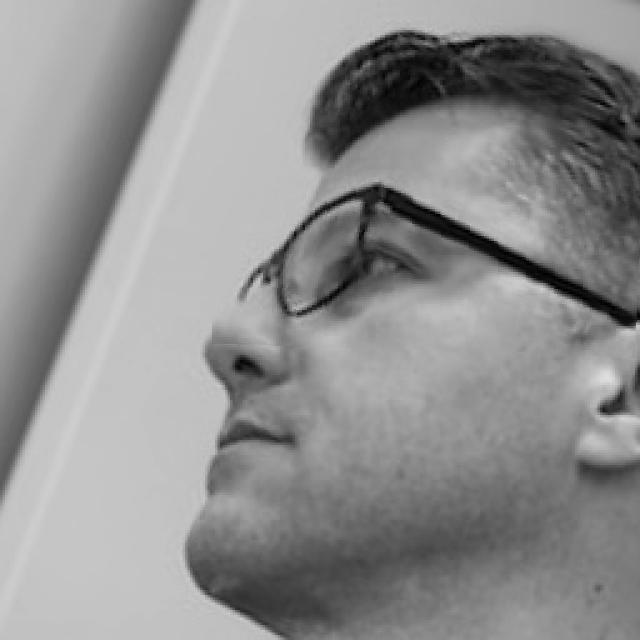glasses: (213, 170, 640, 353)
